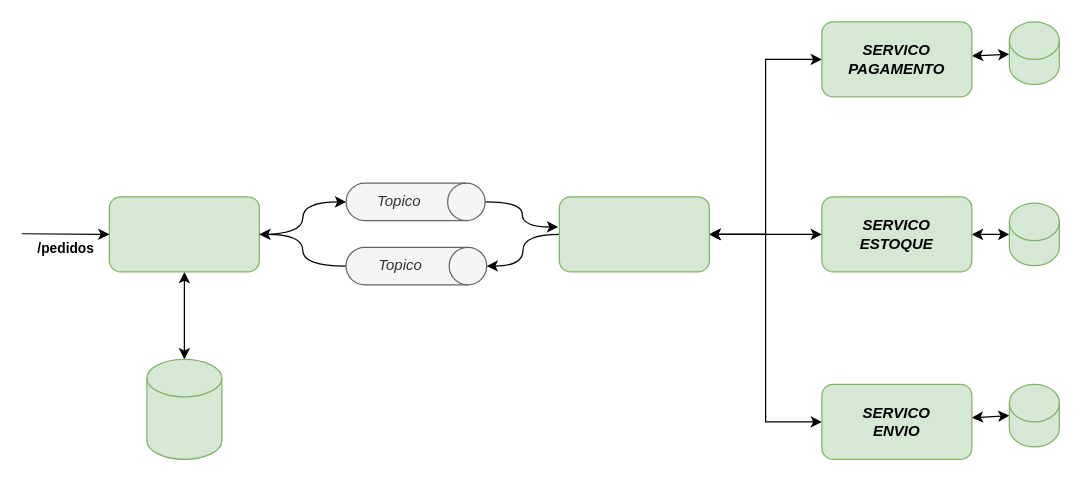
Some shapes in this 1081 by 481 pixel diagram are drawn without their labels. The shapes that lost their labels are listed below. From the top down, each one's centre as x and y in pixels, then its label:
point 183,234: SERVICO PEDIDO
point 633,234: SERVICO PEDIDO-ORQUESTRADOR
